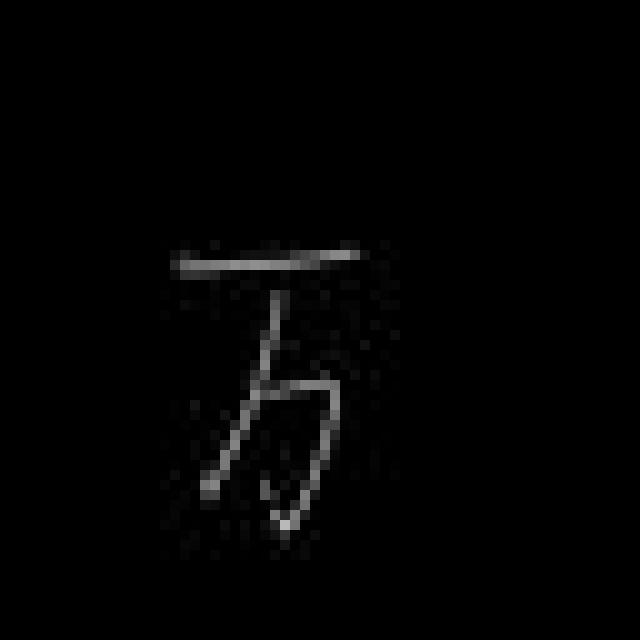10000 -a ten thousand-: (153, 218, 375, 562)
